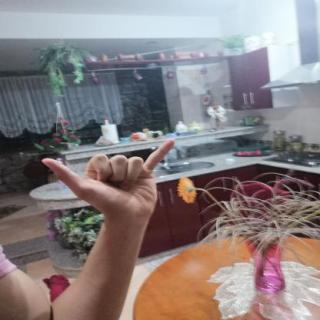YA: (26, 132, 192, 226)
